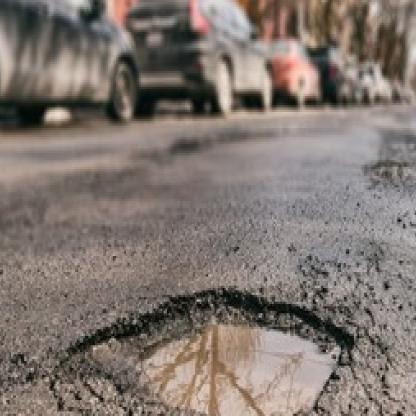pothole: (67, 277, 356, 416)
